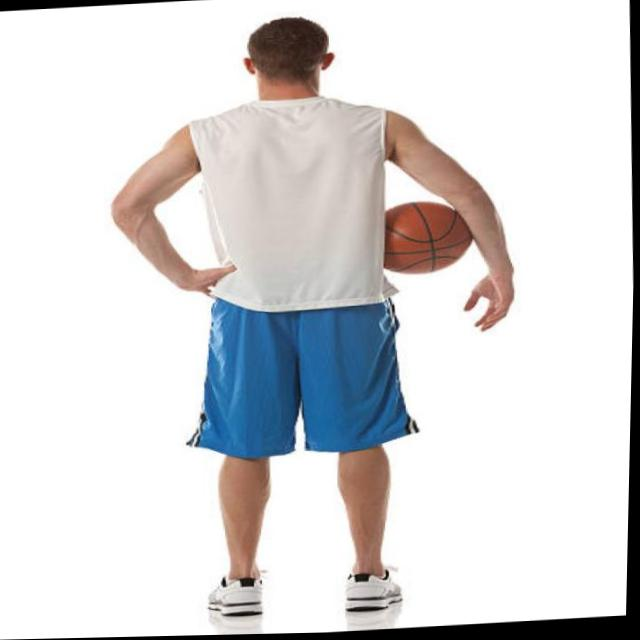no helmet: (210, 0, 370, 106)
